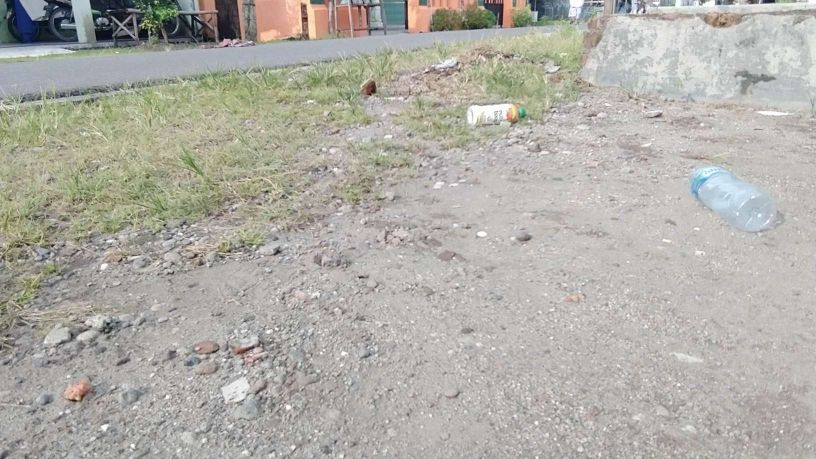botol: (681, 147, 778, 232), (462, 89, 536, 129)
